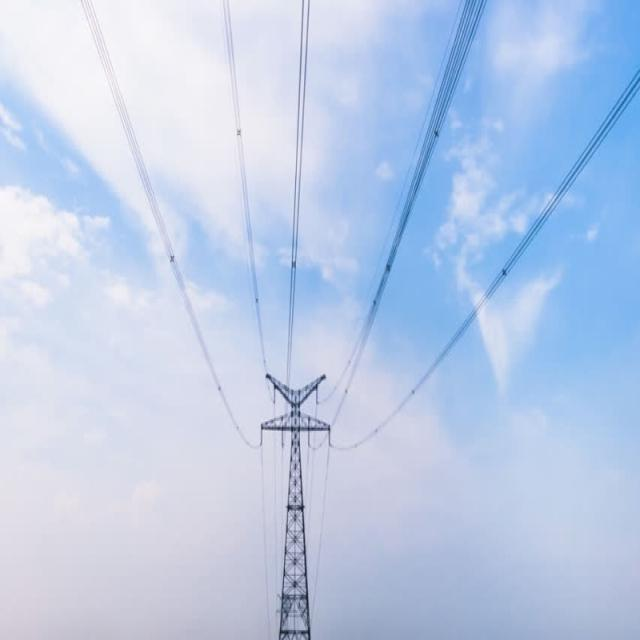non-critical vegetation: (244, 360, 339, 634)
